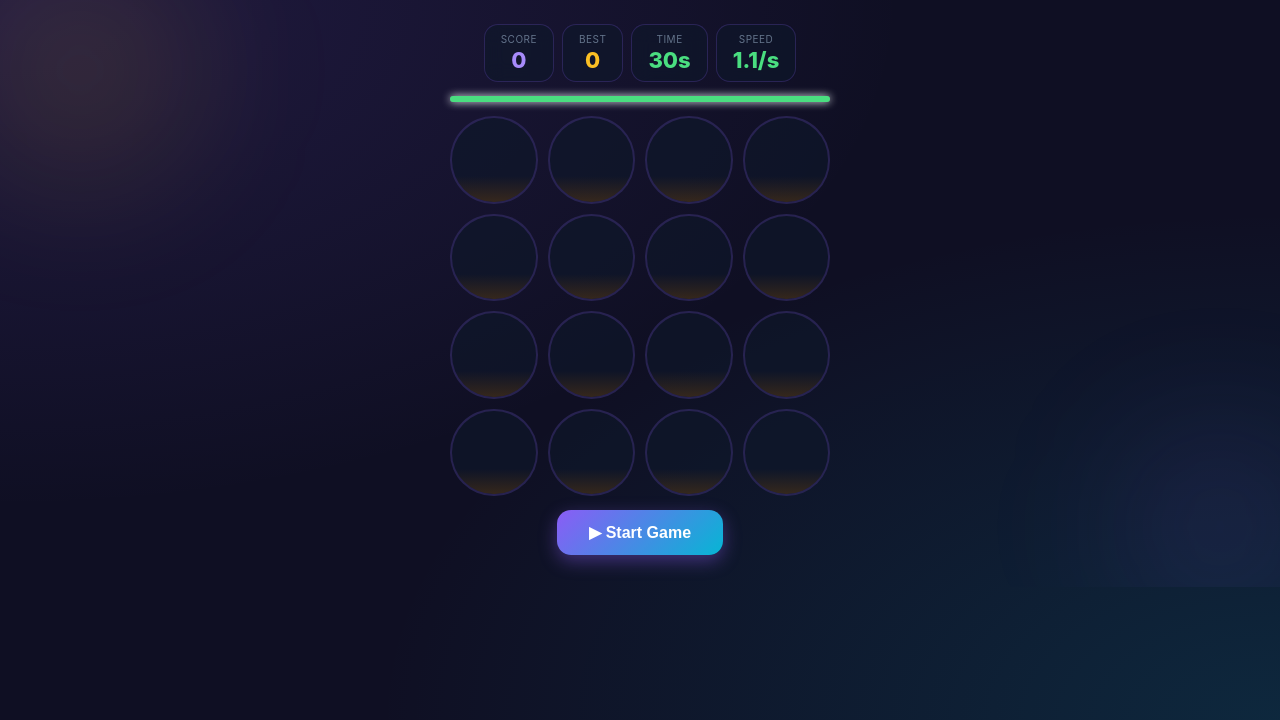
Test: WhackAMole Game › starts the game and activates a mole
Click the button "▶ Start Game".
click(640, 532)  # box top-left (557, 510), bottom-right (723, 555)
Wait 900 ms
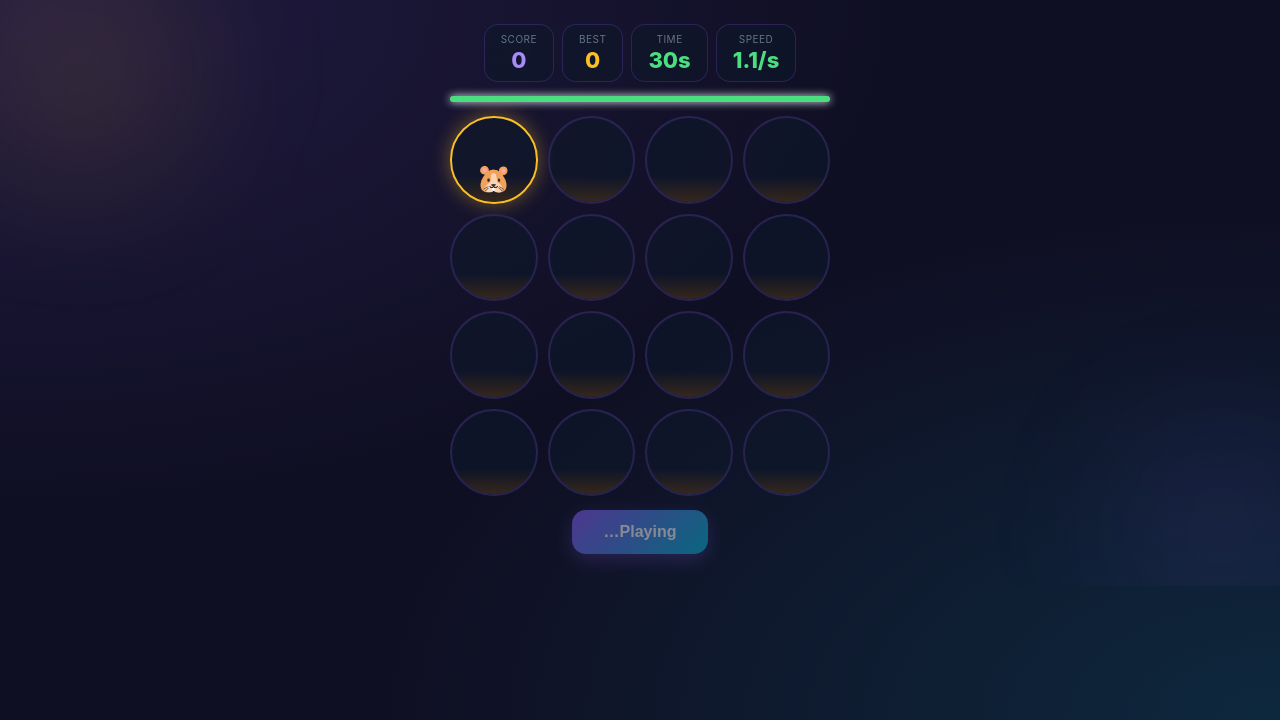
expect the button "…Playing" is disabled: met, box top-left (572, 510), bottom-right (708, 554)
expect the text with class "wam-mole" reads "🐹": met, box top-left (476, 161), bottom-right (511, 195)
